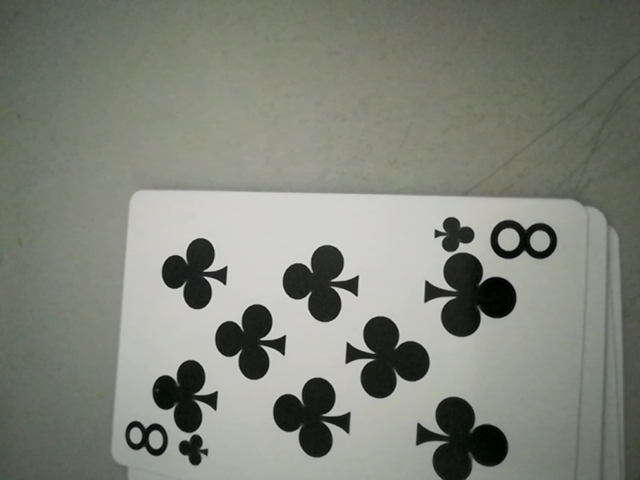mh 8: (430, 211, 563, 264), (119, 417, 206, 472)
